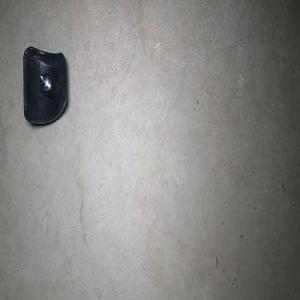LuggagePart: (22, 45, 68, 126)
